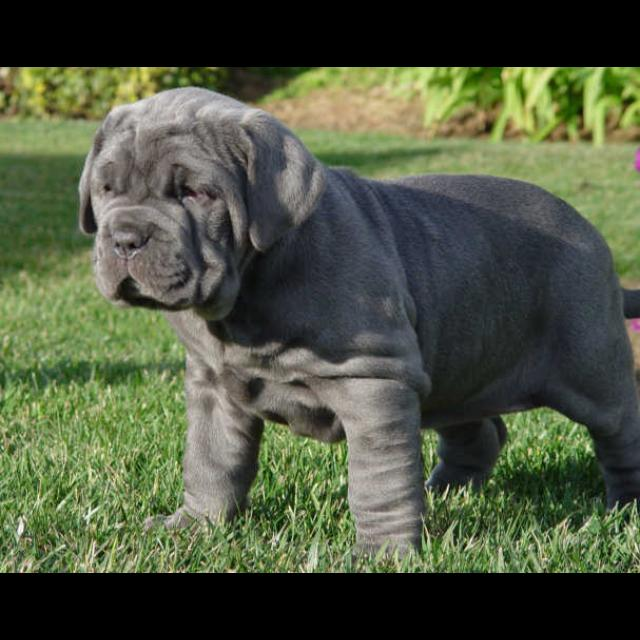mastino_napoletano: (77, 86, 640, 567)
